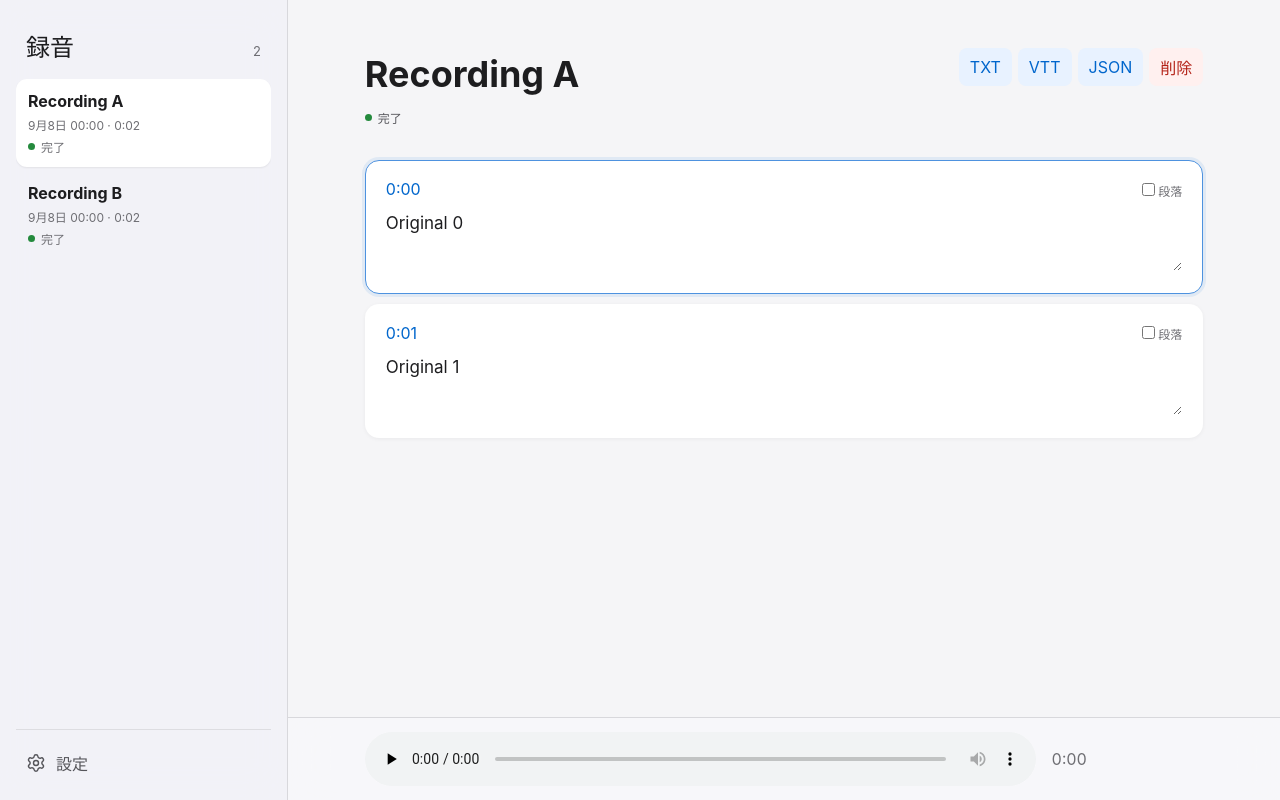
Test case: does not replace the selected recording with a late save response
Replace the text in the text box named "0:00の発話" with "Edit A": [784, 239] box top-left (386, 208), bottom-right (1182, 271)
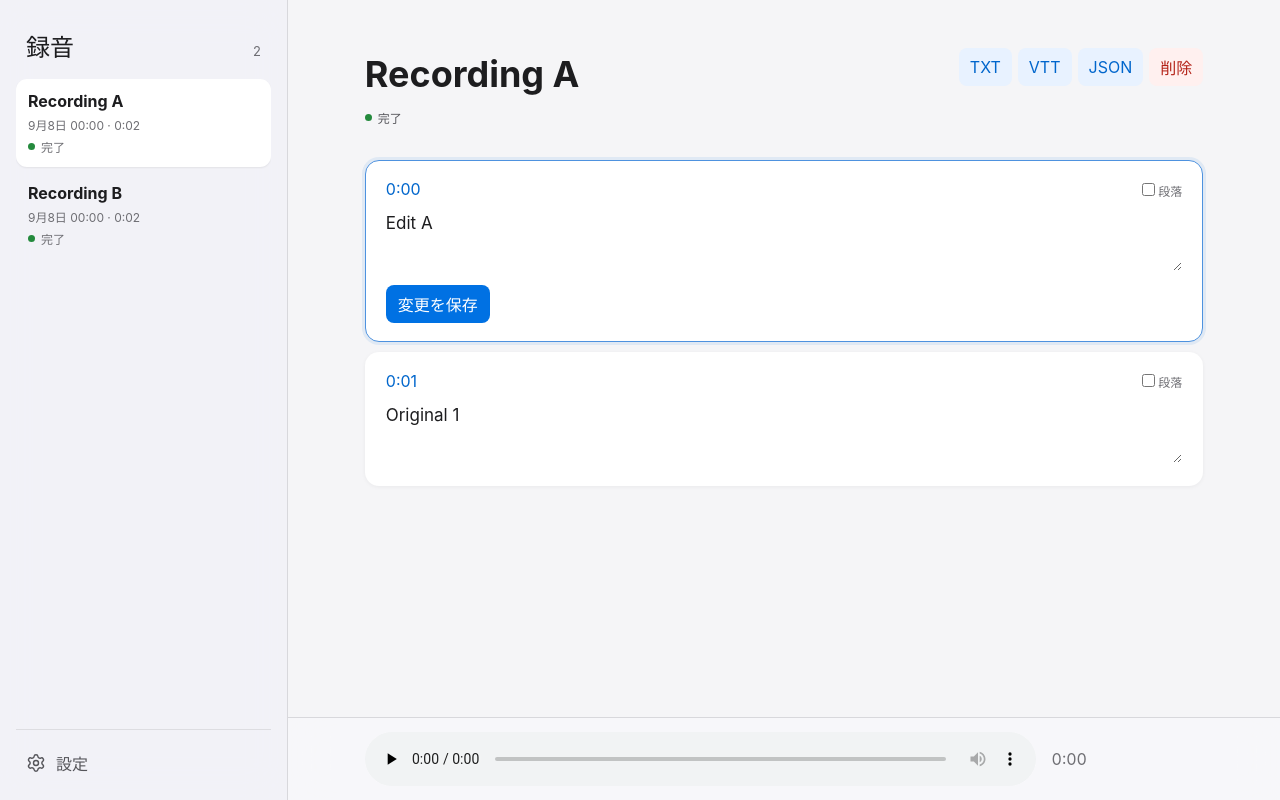
Click the button "変更を保存": [438, 304] box top-left (386, 285), bottom-right (490, 323)
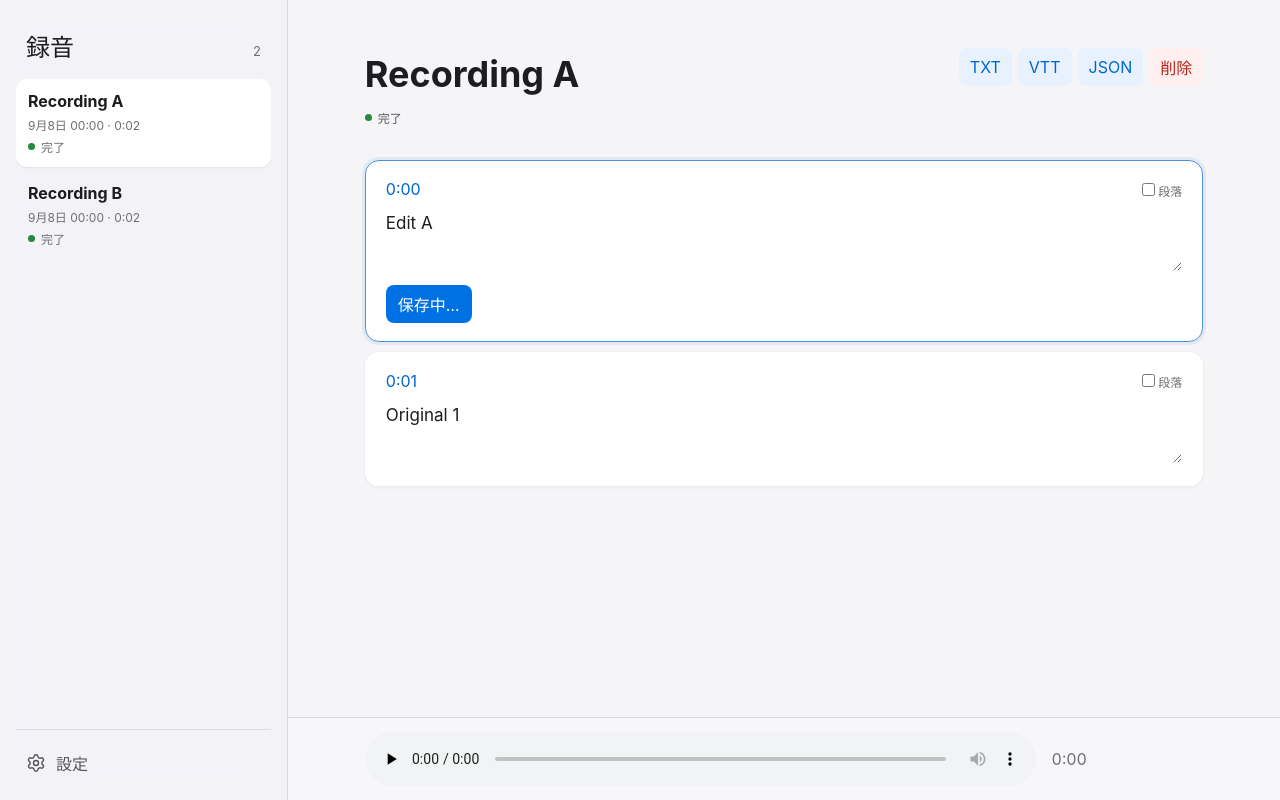
Click the button "Recording B": [144, 215] box top-left (16, 171), bottom-right (271, 259)
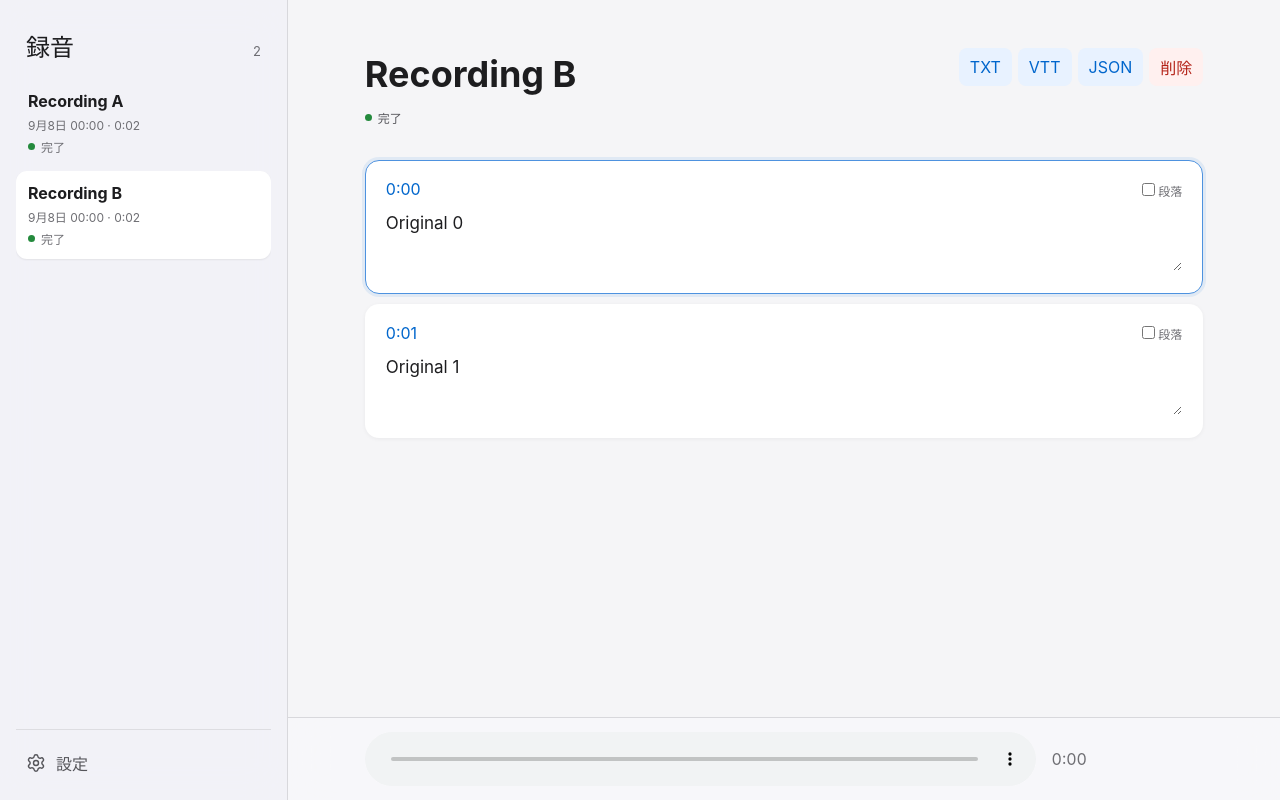
expect the field named "録音タイトル" holds "Recording B": met, box top-left (365, 48), bottom-right (925, 101)
